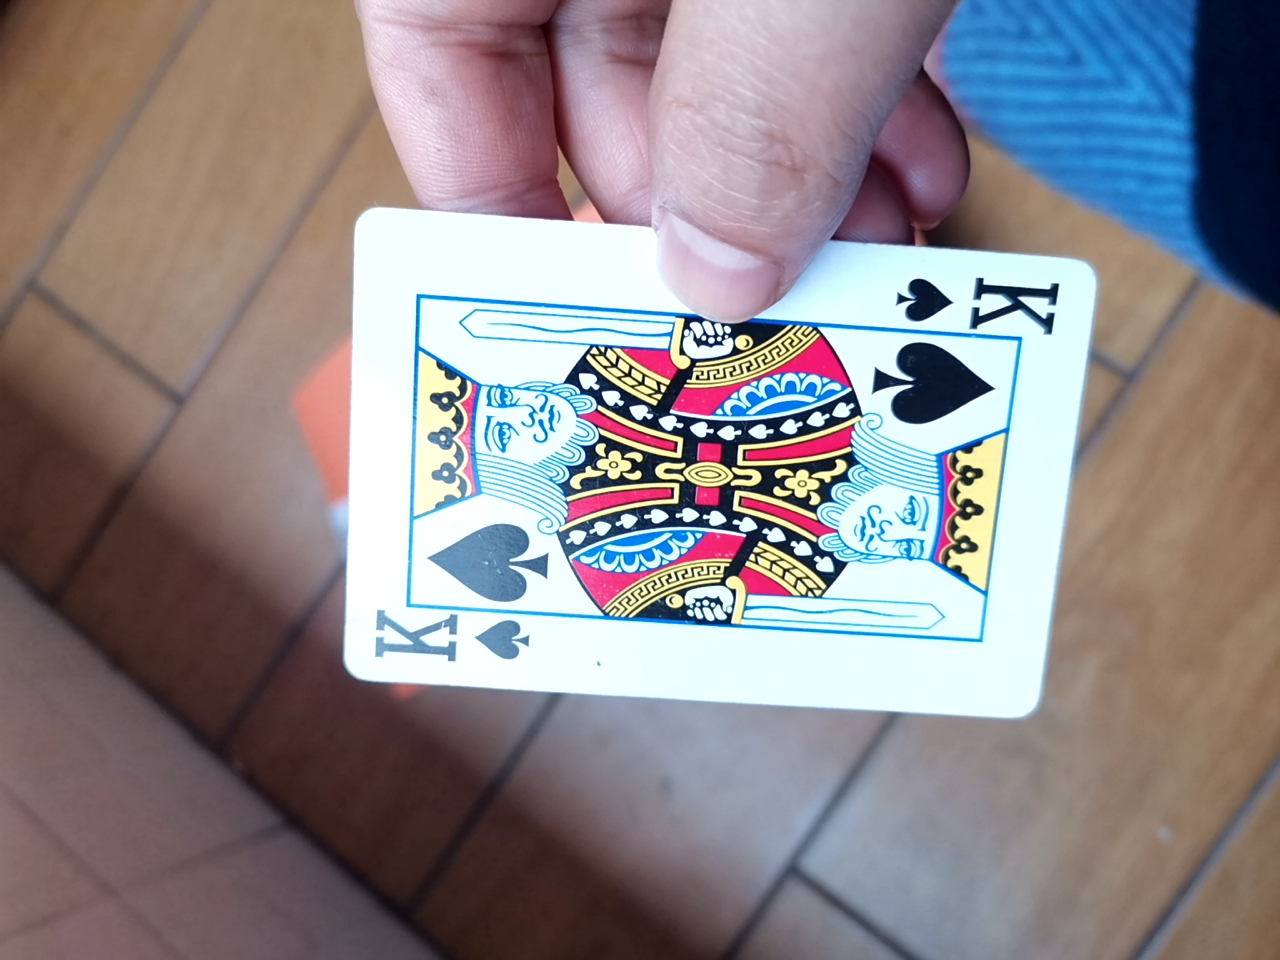ht k: (313, 193, 1094, 731)
